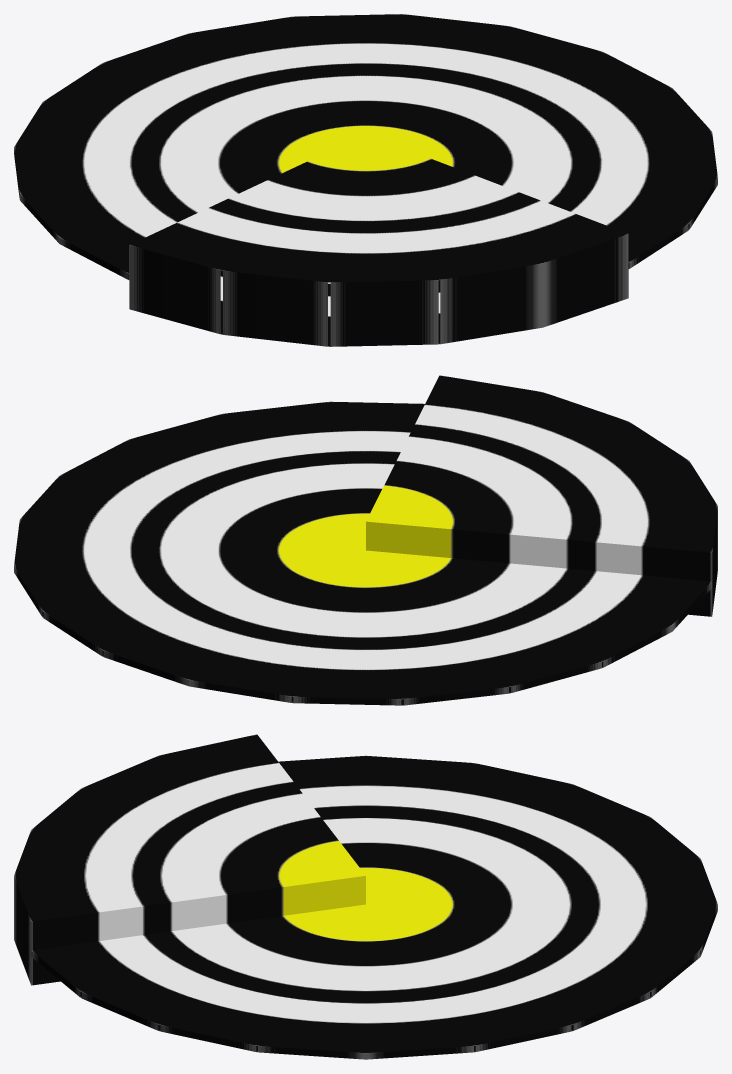
File: MatoBlack6.fbx
The picture shows the model from 3 angles, top to bottom: view 1: azimuth 30°, elevation 25°; view 2: azimuth 150°, elevation 25°; view 3: azimuth 270°, elevation 25°; orthographic projection.
Visible parts, largest first — view 1: polySurface4, polySurface3, polySurface2; view 2: polySurface3, polySurface2, polySurface4; view 3: polySurface3, polySurface4, polySurface2.
Boxes of the visible parts, x1,y1,x2,y2 form: polySurface4: (129,134,628,346); polySurface3: (189,14,717,268); polySurface2: (14,33,341,280); polySurface3: (14,401,424,686); polySurface2: (189,550,711,705); polySurface4: (366,375,717,616); polySurface3: (31,904,717,1059); polySurface4: (14,734,365,985); polySurface2: (278,755,717,904).
Size of the model in its own units: 2 by 0.2 by 2.
Materials: 1 (1 with a texture image).
